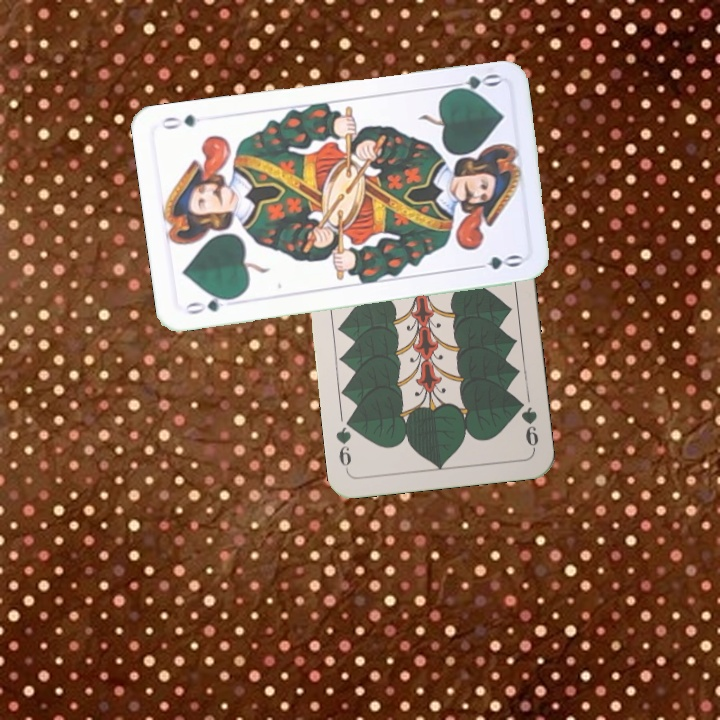G9: (513, 395, 541, 453)
GO: (443, 70, 502, 96), (181, 291, 238, 317)
